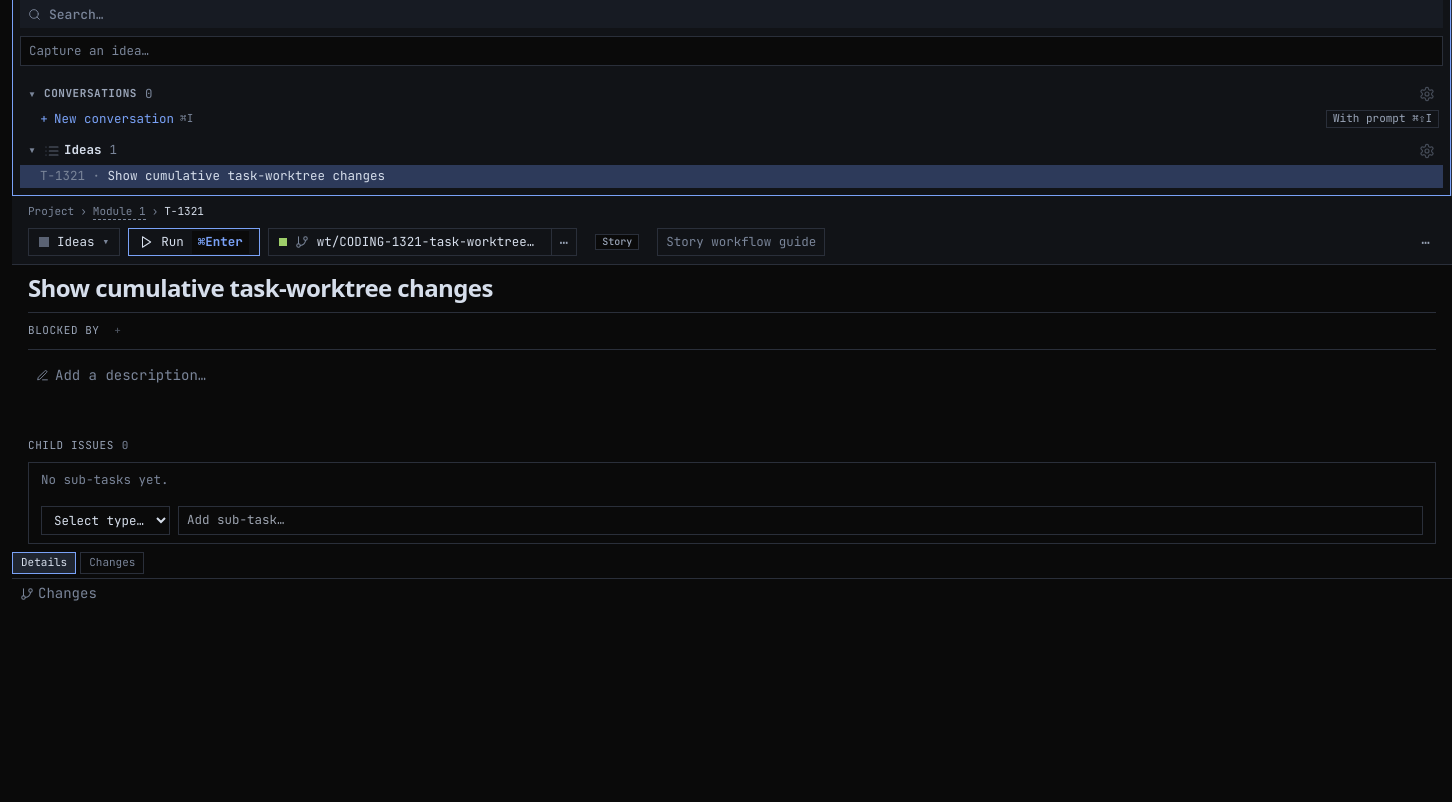
Test case: overhaul acceptance - task worktree Changes › [overhaul-185] restores Details when a worktree disappears and explains non-list states
Click the tab "Changes". click: (112, 563)
box: 80,552 -> 144,574
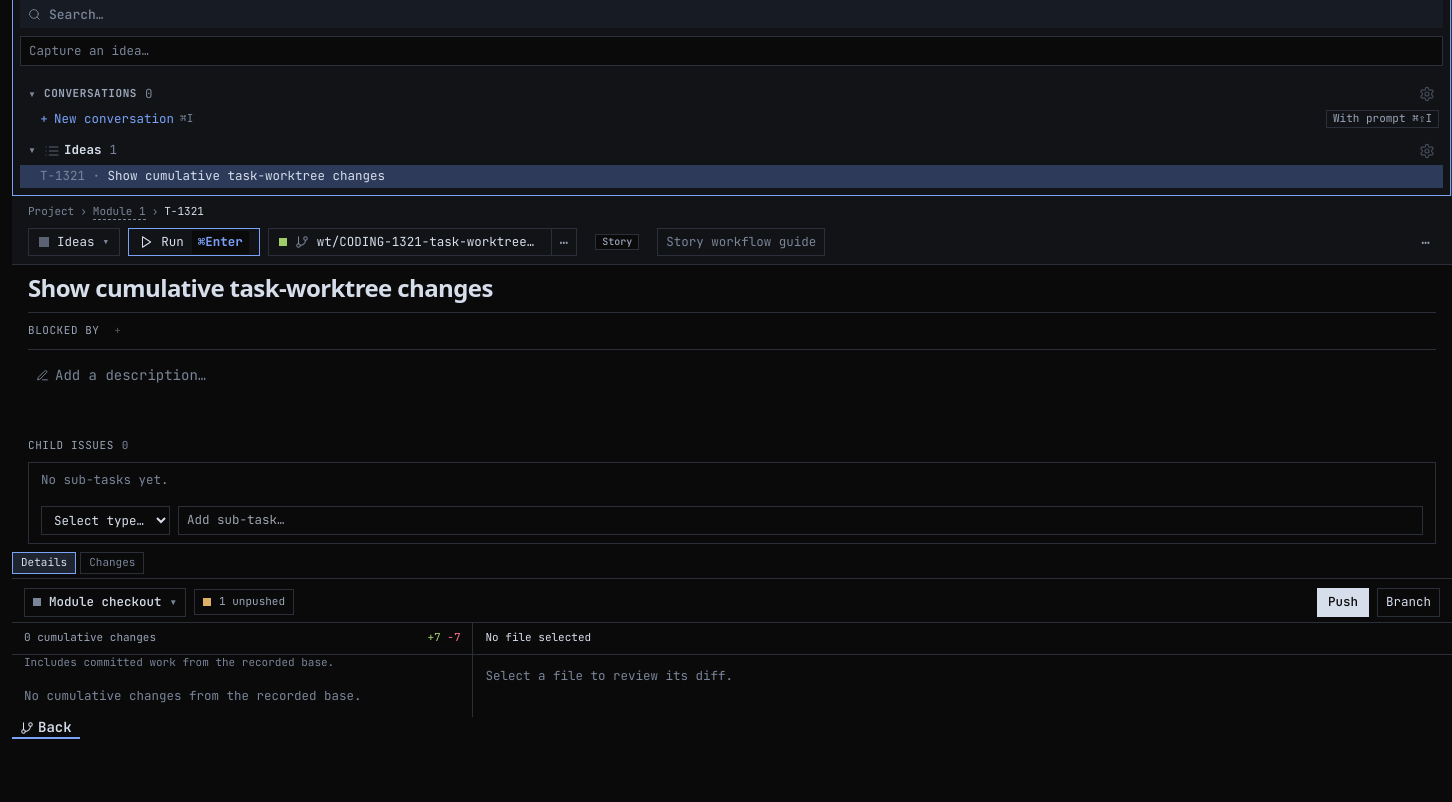
Click the button "Branch". click: (1408, 602)
box: 1377,588 -> 1440,617
(page scrolled)
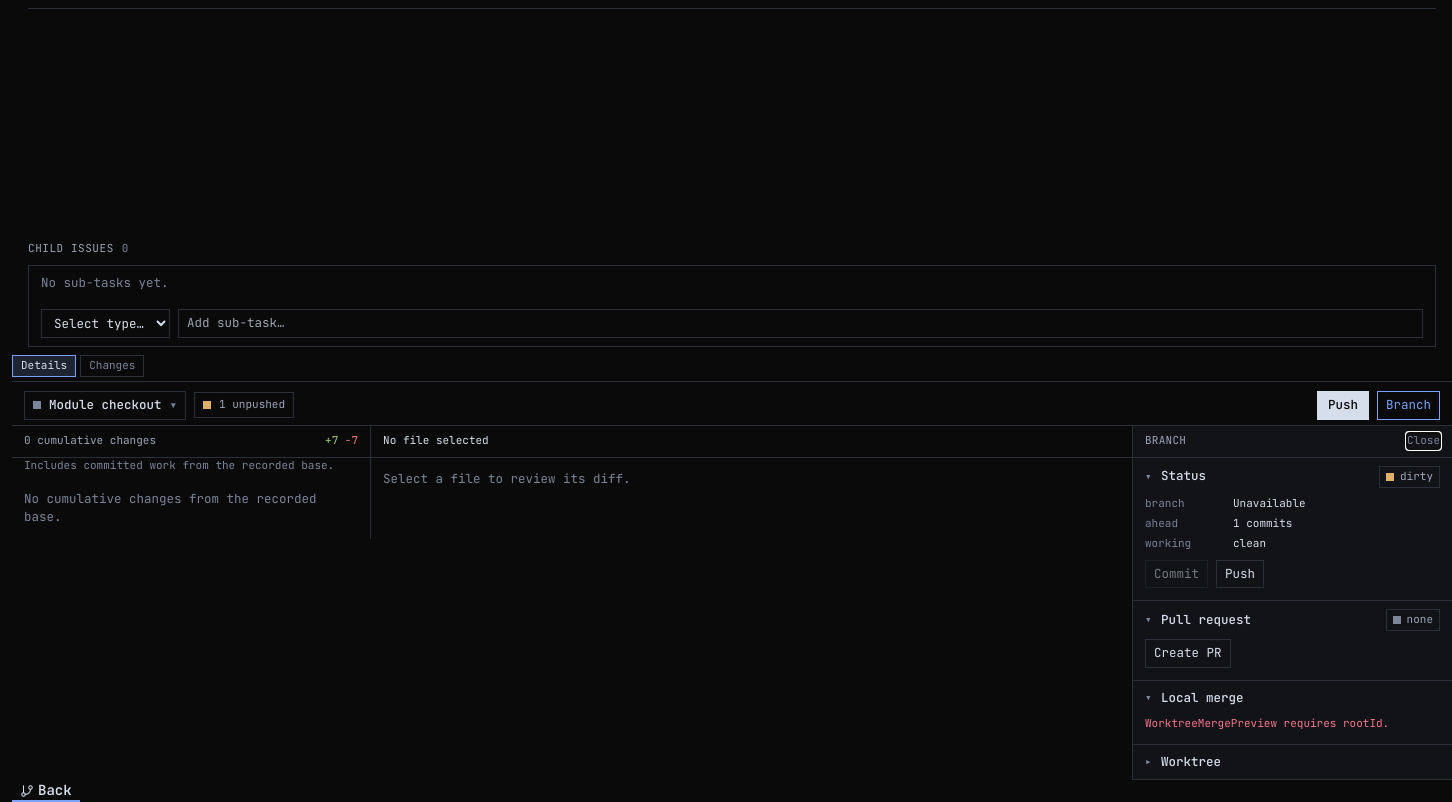
Check: the text "No cumulative changes from the recorded base." is shown, box 24,490 -> 316,526
Check: the element with test id "changes-branch-inspector" is shown, box 1132,426 -> 1451,780
Click the button with aria-label "Back to planning workspace". click: (46, 791)
box: 12,780 -> 80,801
(page scrolled)
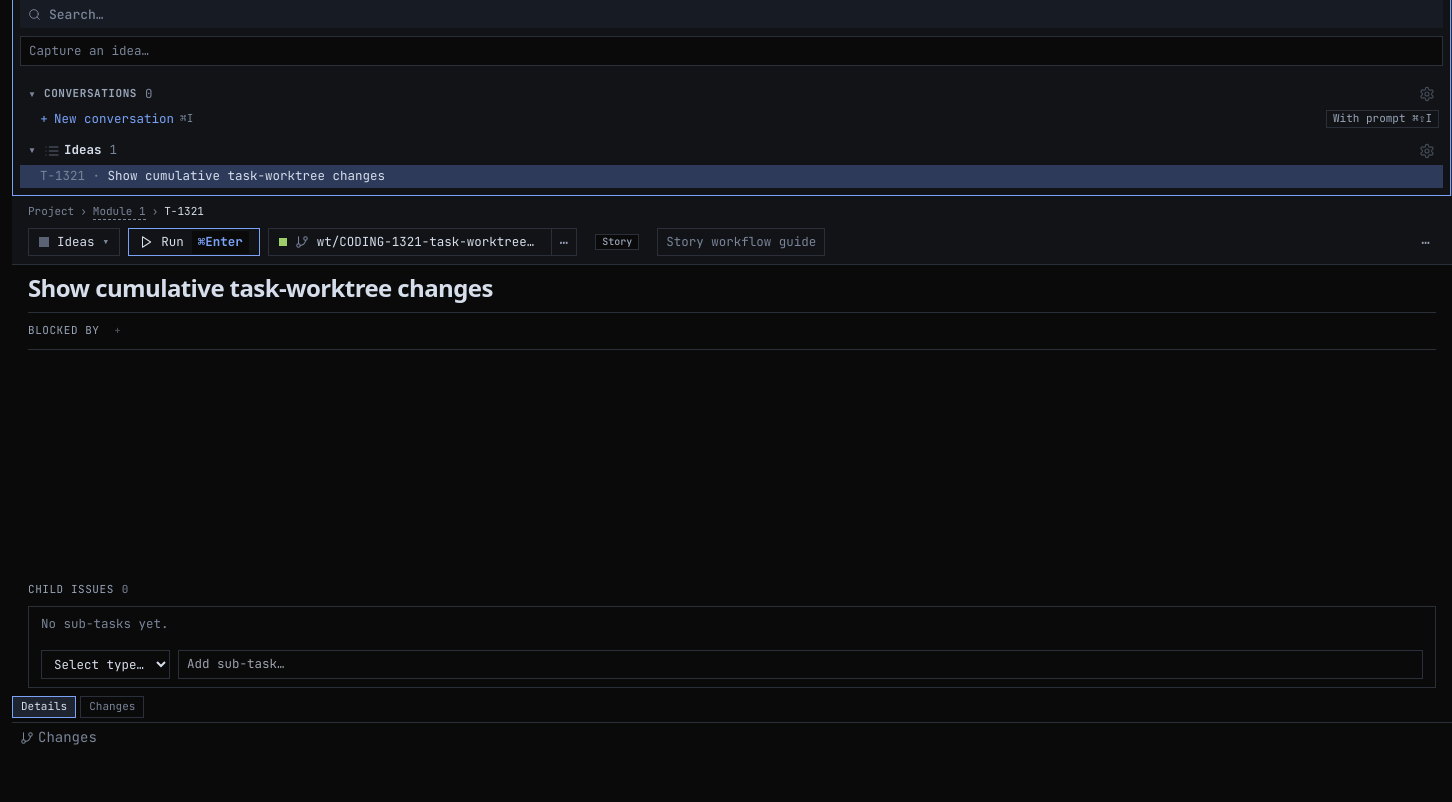
Click the tab "Changes". click: (112, 707)
box: 80,696 -> 144,718
(page scrolled)
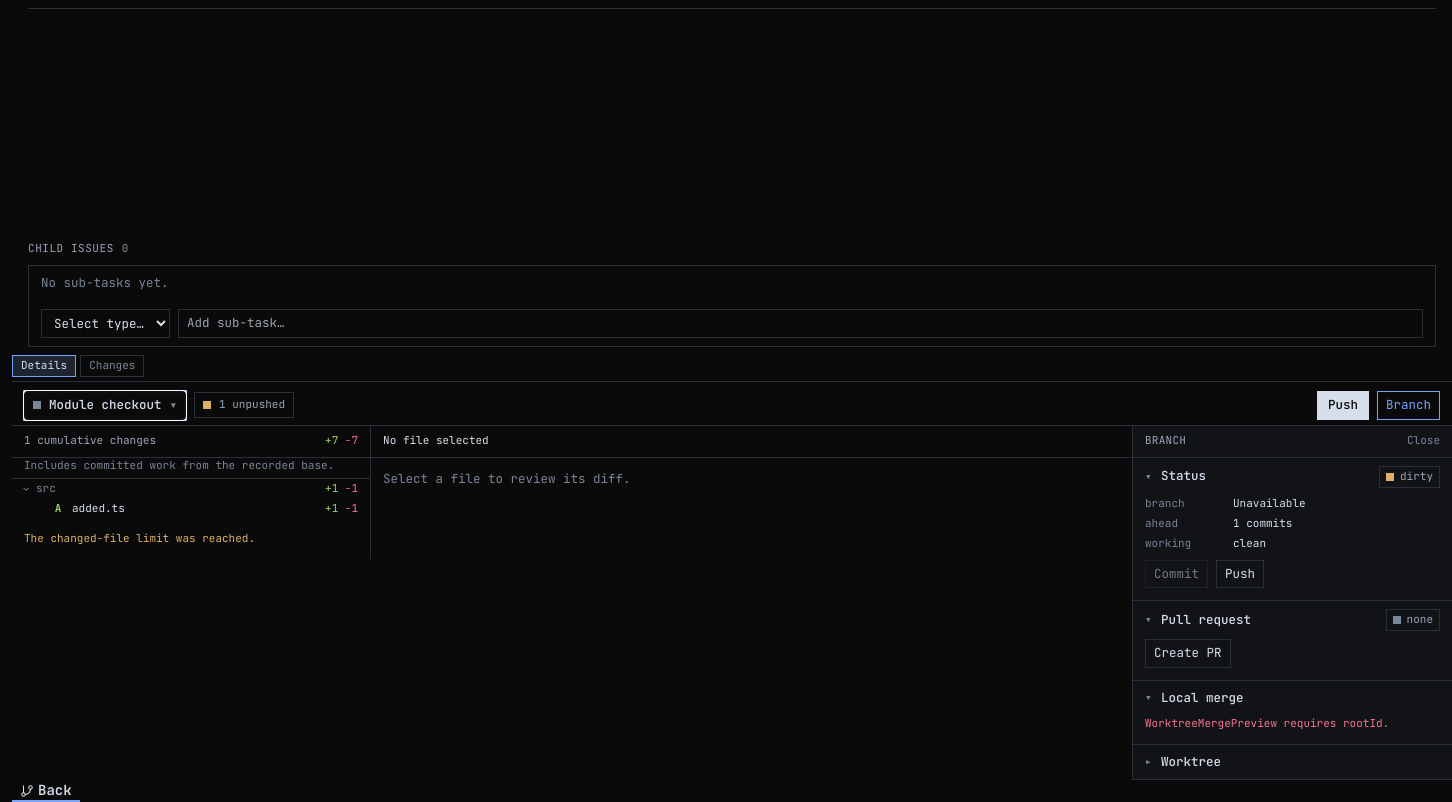
Check: the text "The changed-file limit was reached." is shown, box 24,531 -> 255,545
Click the button with aria-label "Back to planning workspace". click: (46, 791)
box: 12,780 -> 80,801
(page scrolled)
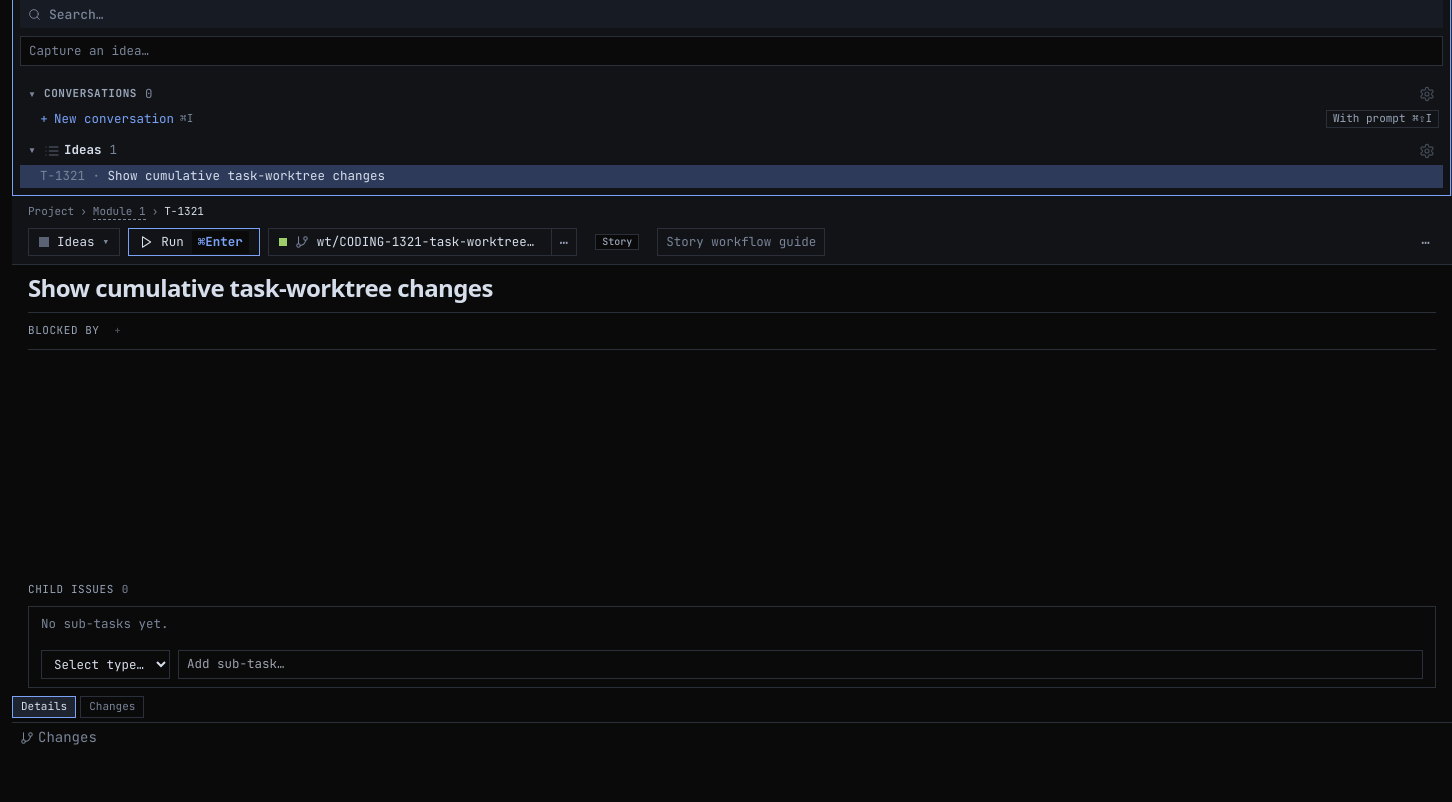
Click the tab "Changes". click: (112, 707)
box: 80,696 -> 144,718
(page scrolled)
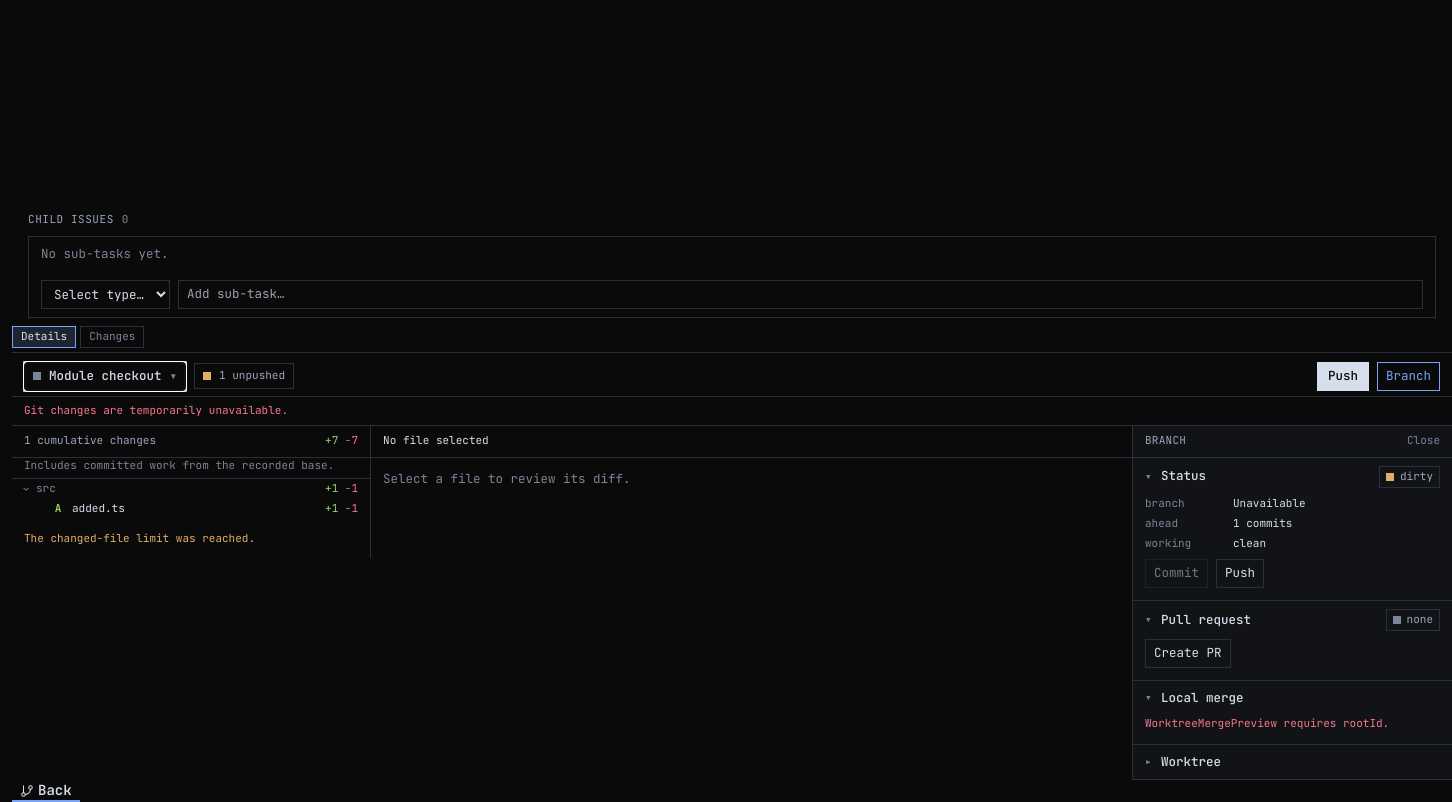
Check: the message "Git changes are temporarily unavailable." is shown, box 24,403 -> 288,417
